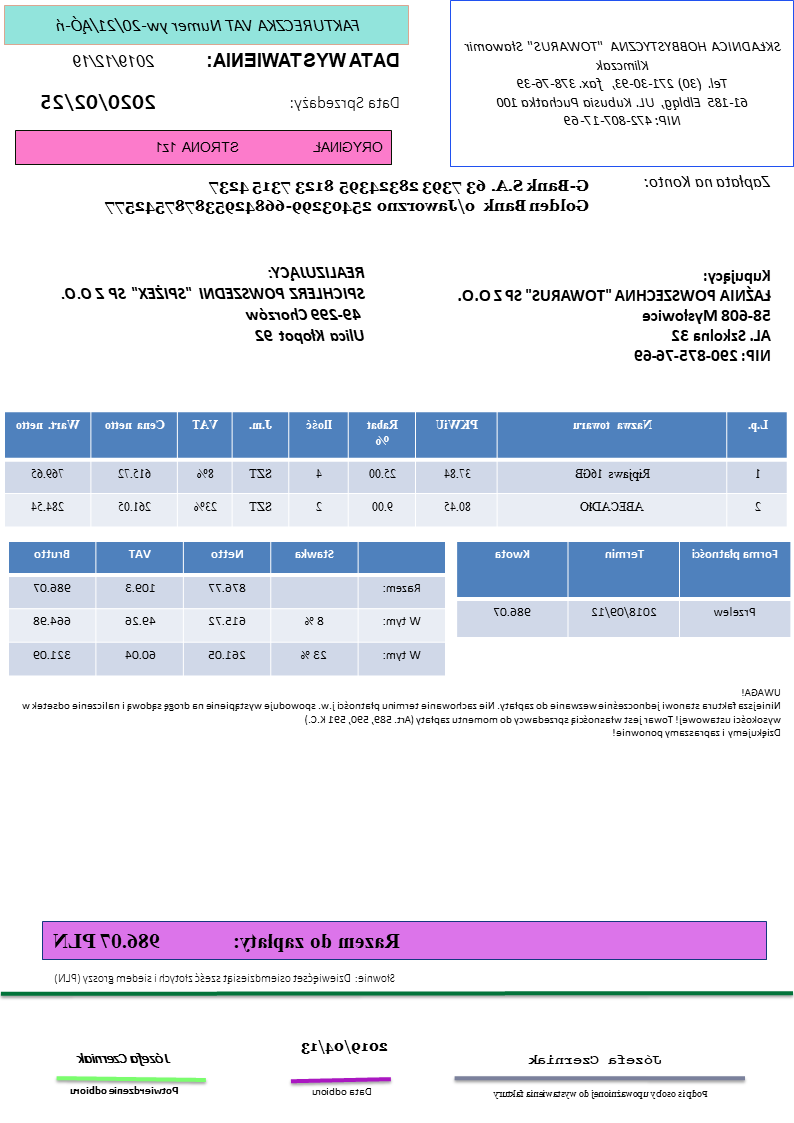Table: (5, 408, 789, 530), (6, 540, 446, 678), (457, 540, 792, 640)
TextBox: (19, 683, 784, 742), (456, 264, 774, 364), (460, 35, 787, 130), (58, 261, 368, 347), (102, 173, 592, 220), (52, 927, 403, 954), (51, 11, 365, 38), (50, 968, 398, 988), (151, 135, 387, 157), (204, 47, 403, 72), (491, 1085, 711, 1101), (38, 88, 159, 113), (288, 90, 402, 114), (644, 170, 772, 190), (527, 1051, 665, 1067), (68, 48, 159, 72), (74, 1047, 175, 1068), (300, 1036, 392, 1059), (66, 1082, 182, 1099), (309, 1083, 376, 1098)
